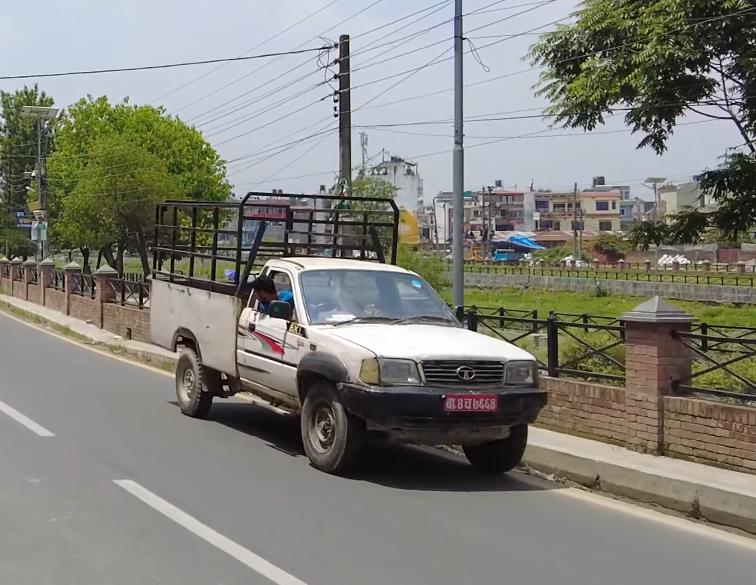transport_vehicle: (143, 179, 551, 488)
